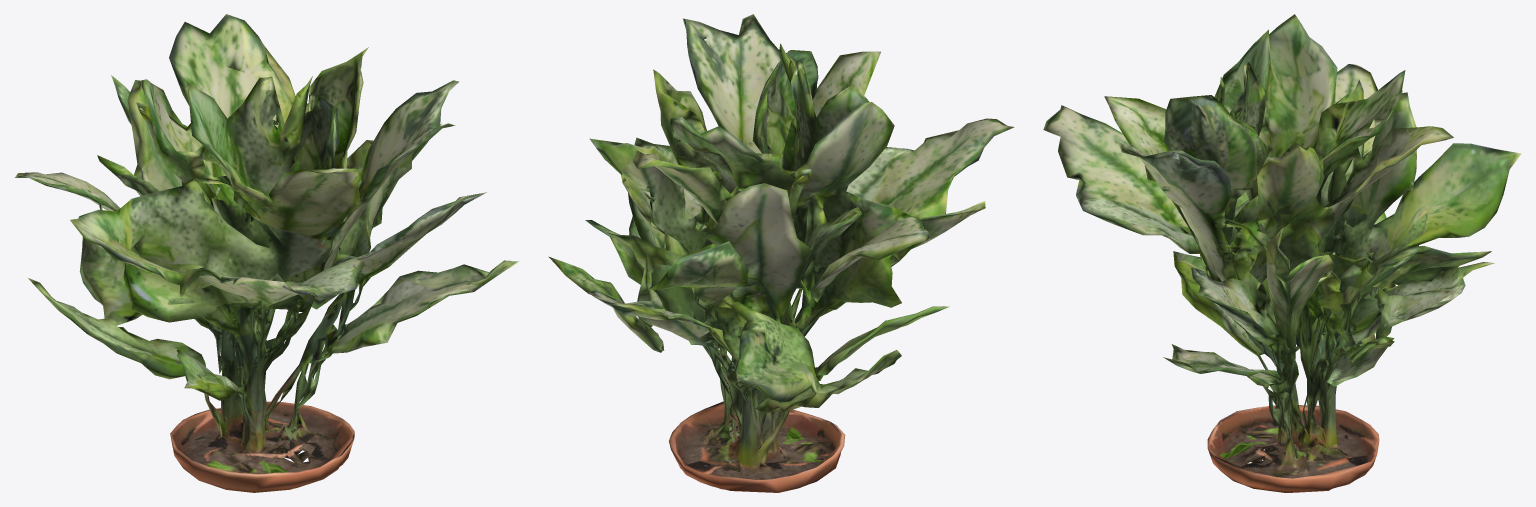
3 renders of one model, left to right at view 1: azimuth 30°, elevation 25°; view 2: azimuth 150°, elevation 25°; view 3: azimuth 270°, elevation 25°, orthographic. The views are drawn at different scales.
Parts seen in each view (by area): view 1: Mesh_0; view 2: Mesh_0; view 3: Mesh_0.
Boxes of the visible parts, x1,y1,x2,y2 form: Mesh_0: (14,14,518,492); Mesh_0: (548,14,1014,492); Mesh_0: (1043,14,1521,492).
Bounding box in the file's own units: 1.66 × 1.6 × 1.77.
1 material, 1 textured.
